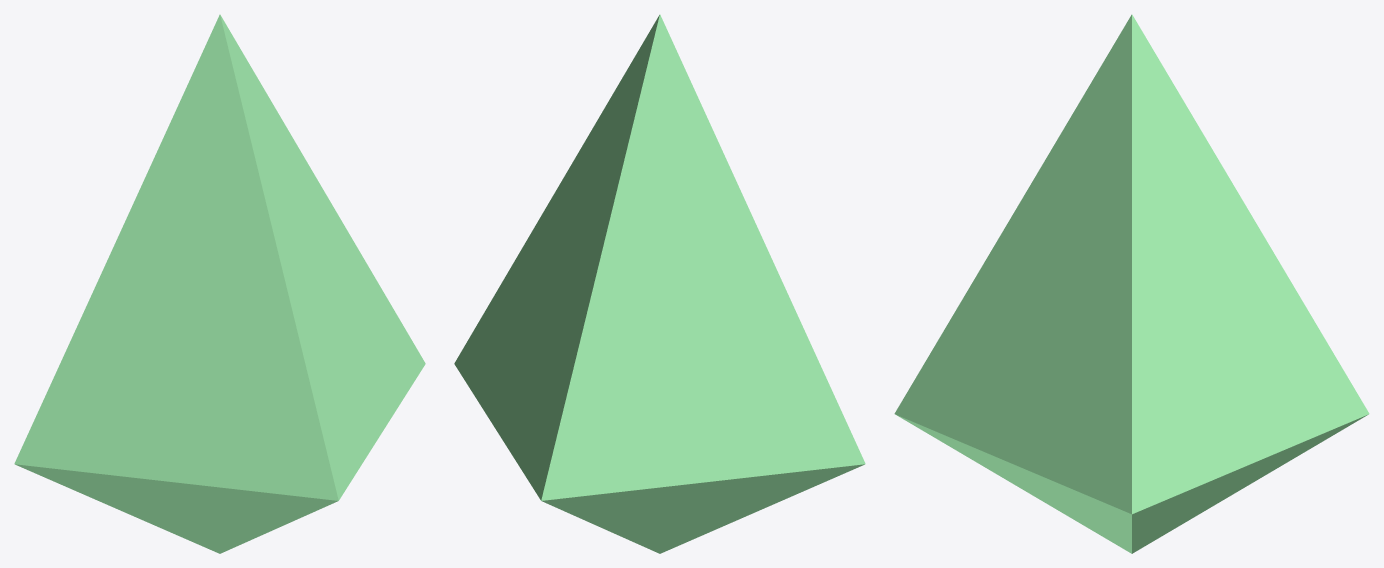
The model's file is mendiane.gltf.
The picture shows the model from 3 angles, left to right: view 1: azimuth 30°, elevation 25°; view 2: azimuth 150°, elevation 25°; view 3: azimuth 270°, elevation 25°; orthographic projection.
Visible parts, largest first — view 1: mendiane; view 2: mendiane; view 3: mendiane.
Boxes of the visible parts, x1,y1,x2,y2 form: mendiane: (14,14,425,553); mendiane: (454,14,865,553); mendiane: (894,14,1369,553).
Bounding box in the file's own units: 0.28 × 0.351 × 0.28.
